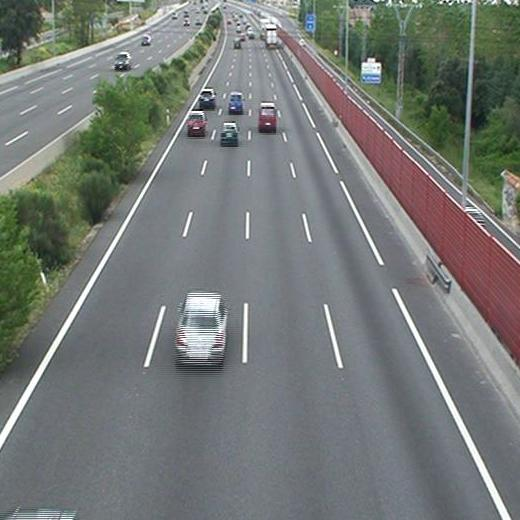car: (175, 293, 225, 362), (187, 112, 206, 135), (221, 124, 238, 145), (200, 90, 215, 108)
truck: (265, 24, 277, 48)
van: (259, 102, 277, 129), (229, 91, 244, 113), (234, 37, 241, 49)
